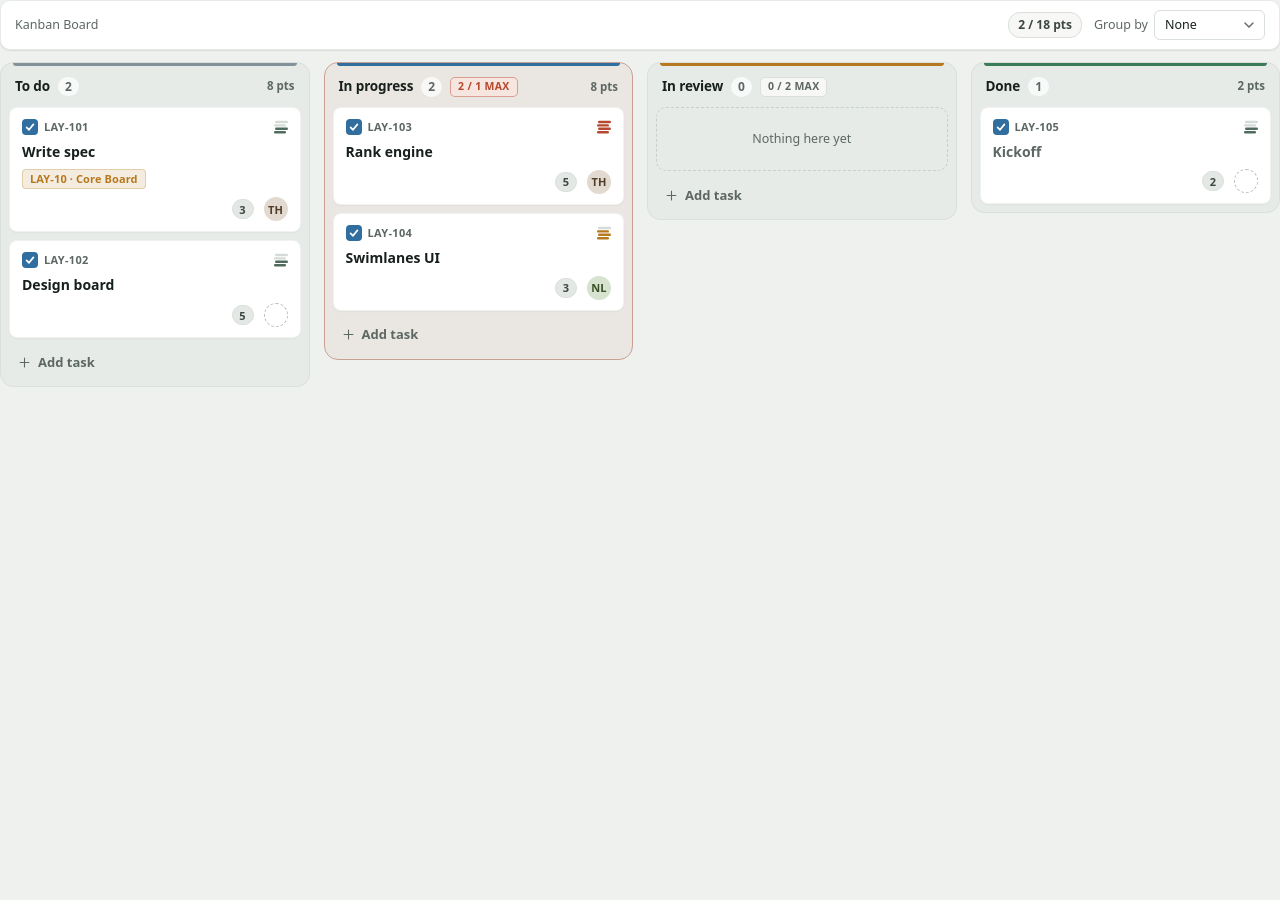
Test: BoardView › highlights WIP limit breaches in column headers and switches Group-By swimlanes
expect the text with test id "wip-InProgress" reads "2 / 1 MAX": met, box [450,77,518,97]
Select "By Assignee" in the dropdown named "Group by swimlane" at (1210, 25), box [1154,10,1265,40]
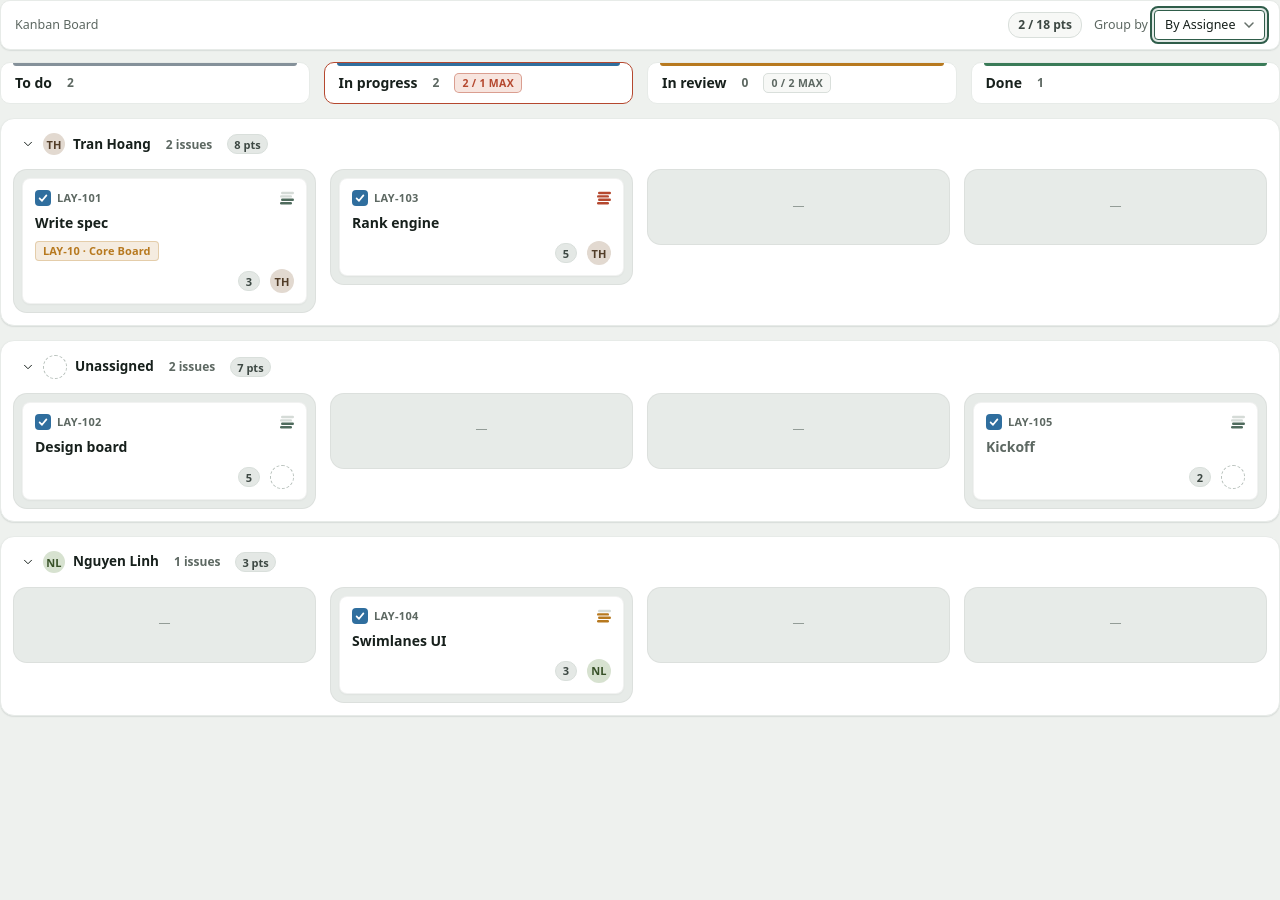
expect the text "Tran Hoang" is shown: met, box [73,134,151,154]
expect the text "Unassigned" is shown: met, box [75,357,154,377]
